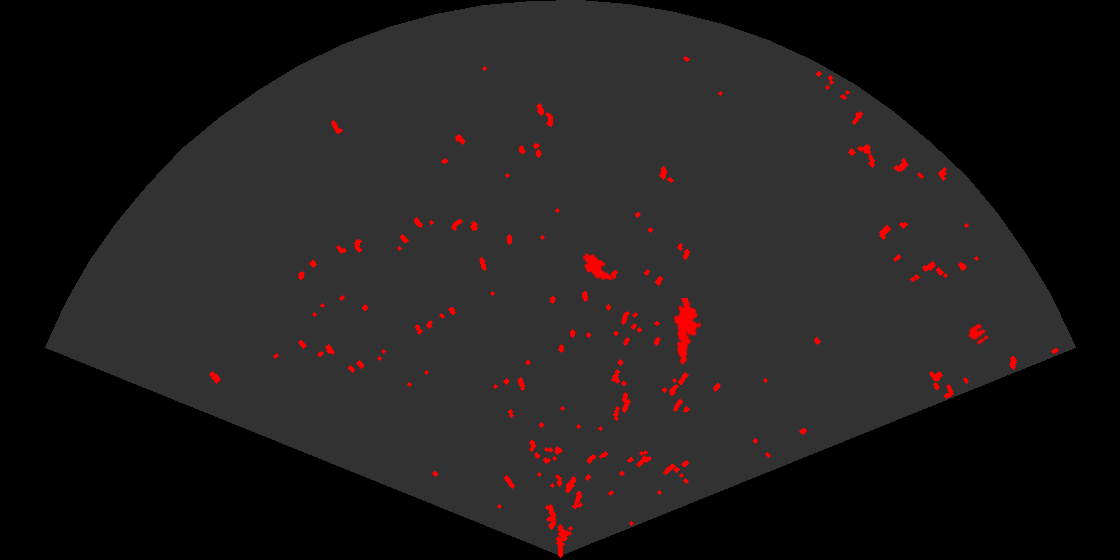AUV: (581, 252, 614, 282)
ball: (967, 322, 990, 346)
frogman: (672, 298, 703, 367)
